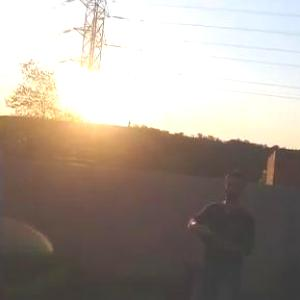follow: (181, 160, 266, 299)
